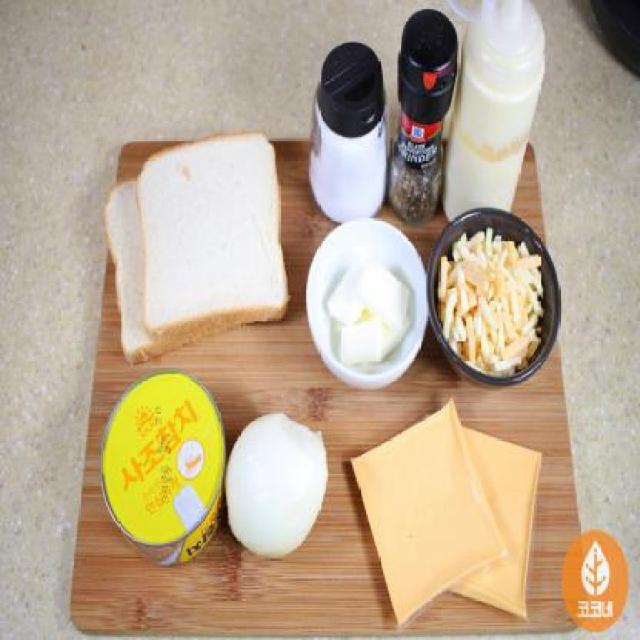bread: (104, 140, 293, 345)
butter: (327, 246, 419, 374)
canned_tuna: (95, 363, 237, 572)
cheese: (346, 405, 545, 629)
mozzarella cheese: (438, 216, 548, 382)
onion: (225, 408, 327, 563)
